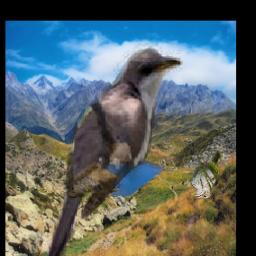Cuckoo: (48, 43, 184, 256)
Sparrow: (190, 152, 224, 200)
